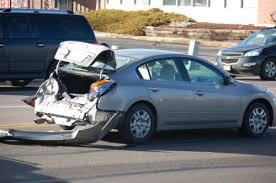rear-bumper-dent: (43, 95, 98, 121)
